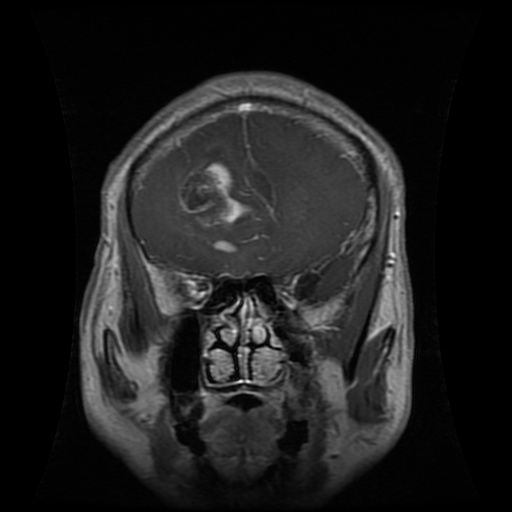glioma: (177, 156, 259, 227)
